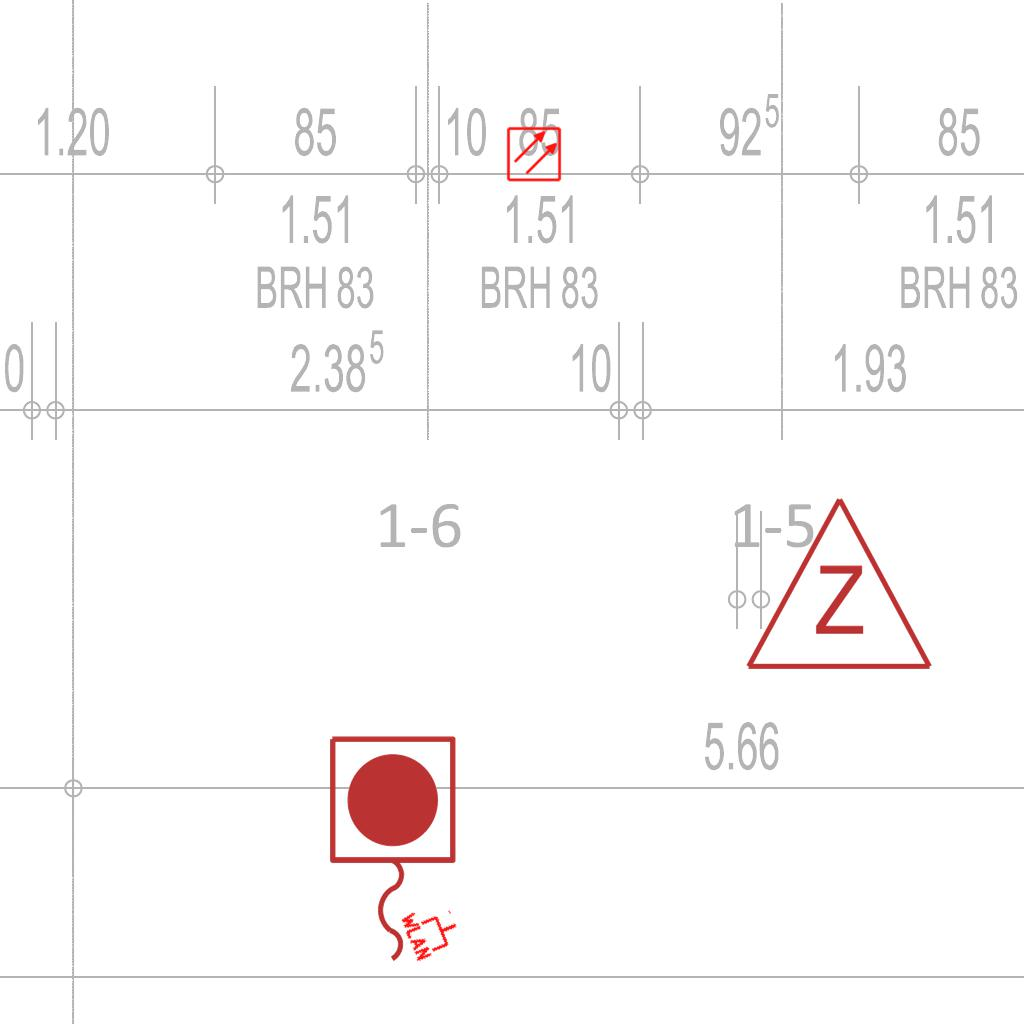RMO_Rauchmelder_optischer: (506, 126, 562, 182)
WLAN: (398, 896, 466, 964)
Zimmersignalleuchte: (739, 484, 935, 684)
Zugtaster: (319, 728, 463, 972)
